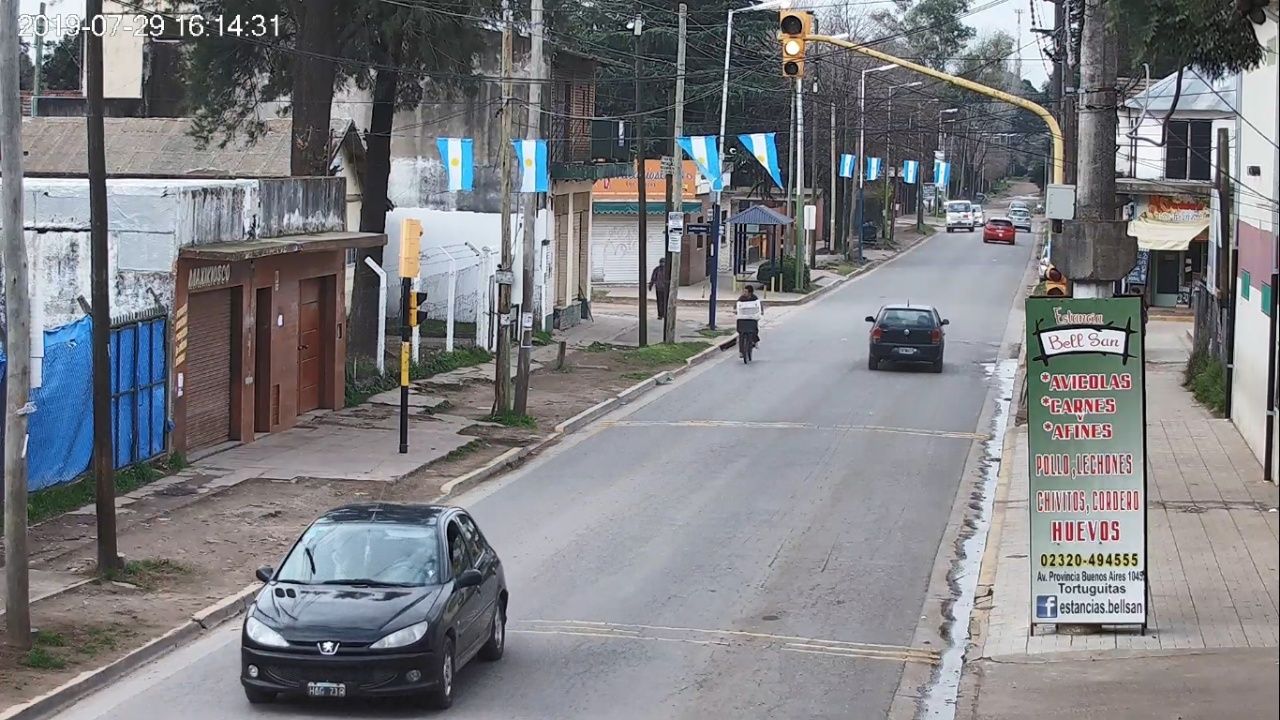car: (865, 303, 949, 370)
front car: (241, 502, 508, 710)
traffic light: (780, 11, 805, 76)
